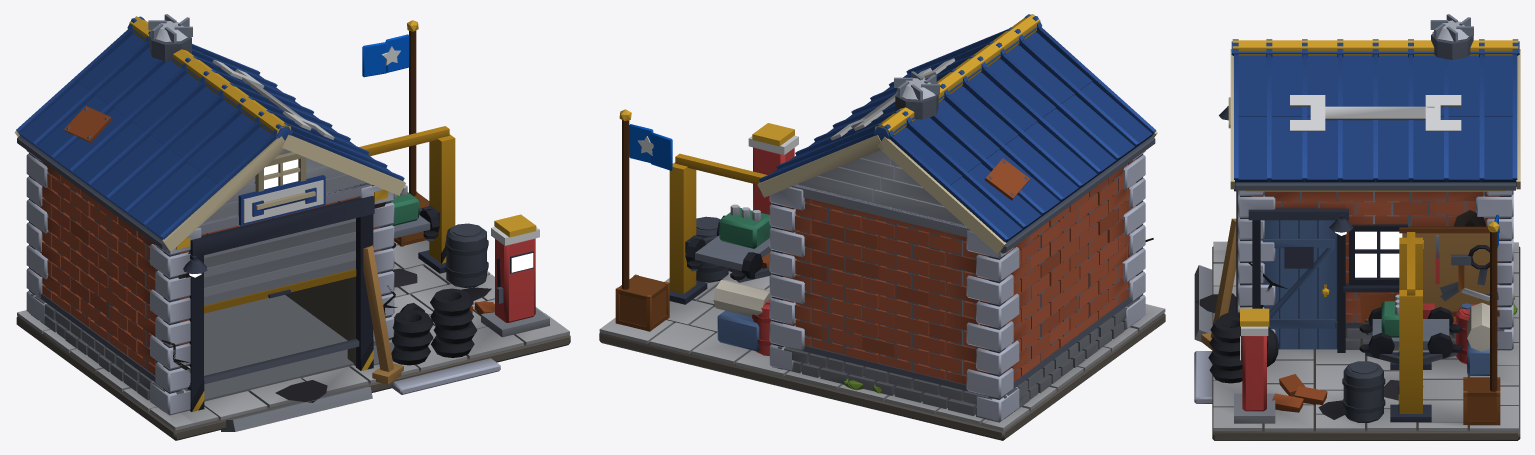
The model's file is b_garage.glb.
The picture shows the model from 3 angles, left to right: view 1: azimuth 30°, elevation 25°; view 2: azimuth 150°, elevation 25°; view 3: azimuth 270°, elevation 25°; orthographic projection. The views are drawn at different scales.
Visible parts, largest first — view 1: body, lv4_halle, lv4_ausbau, lvmax3_halle, dmg2_bruch, bob_buehne, sway_flag, spin_luefter, win_glow; view 2: body, lv4_halle, lvmax3_halle, lv4_ausbau, bob_buehne, sway_flag, spin_luefter; view 3: body, lv4_halle, lv4_ausbau, bob_buehne, dmg2_bruch, lvmax3_halle, win_glow, spin_luefter, dmg1_spuren.
Part boxes in pixels (x1,y1,x2,y2): body: (14, 16, 570, 440); lv4_halle: (26, 150, 394, 415); lv4_ausbau: (129, 16, 536, 330); lvmax3_halle: (29, 153, 391, 415); dmg2_bruch: (363, 245, 494, 384); bob_buehne: (391, 185, 439, 248); sway_flag: (362, 34, 409, 77); spin_luefter: (148, 14, 192, 42); win_glow: (264, 159, 298, 189); body: (599, 14, 1165, 440); lv4_halle: (769, 151, 1145, 421); lvmax3_halle: (772, 154, 1142, 422); lv4_ausbau: (619, 14, 1040, 351); bob_buehne: (685, 204, 771, 282); sway_flag: (629, 124, 672, 170); spin_luefter: (894, 71, 939, 100); body: (1194, 33, 1520, 440); lv4_halle: (1237, 190, 1513, 349); lv4_ausbau: (1209, 40, 1518, 391); bob_buehne: (1359, 294, 1462, 364); dmg2_bruch: (1201, 218, 1498, 412); lvmax3_halle: (1240, 191, 1511, 350); win_glow: (1355, 231, 1402, 277); spin_luefter: (1430, 14, 1473, 41); dmg1_spuren: (1248, 210, 1486, 308).
Size of the model in its own units: 7.52 by 5.49 by 5.53.
